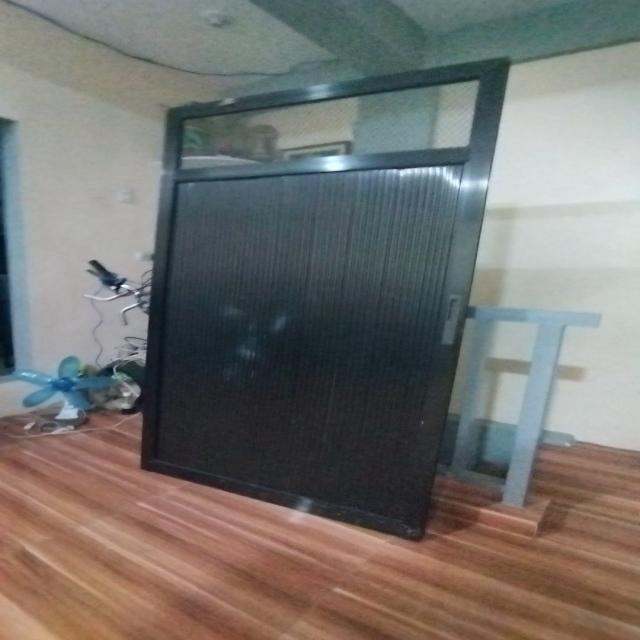door: (134, 53, 514, 540)
